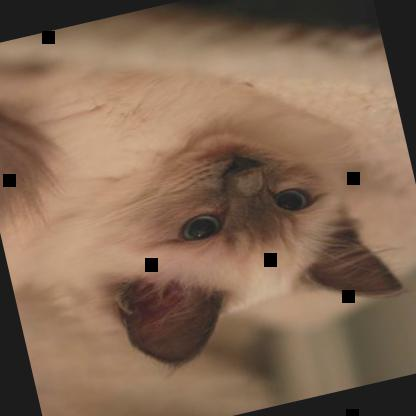cat: (0, 0, 411, 400)
